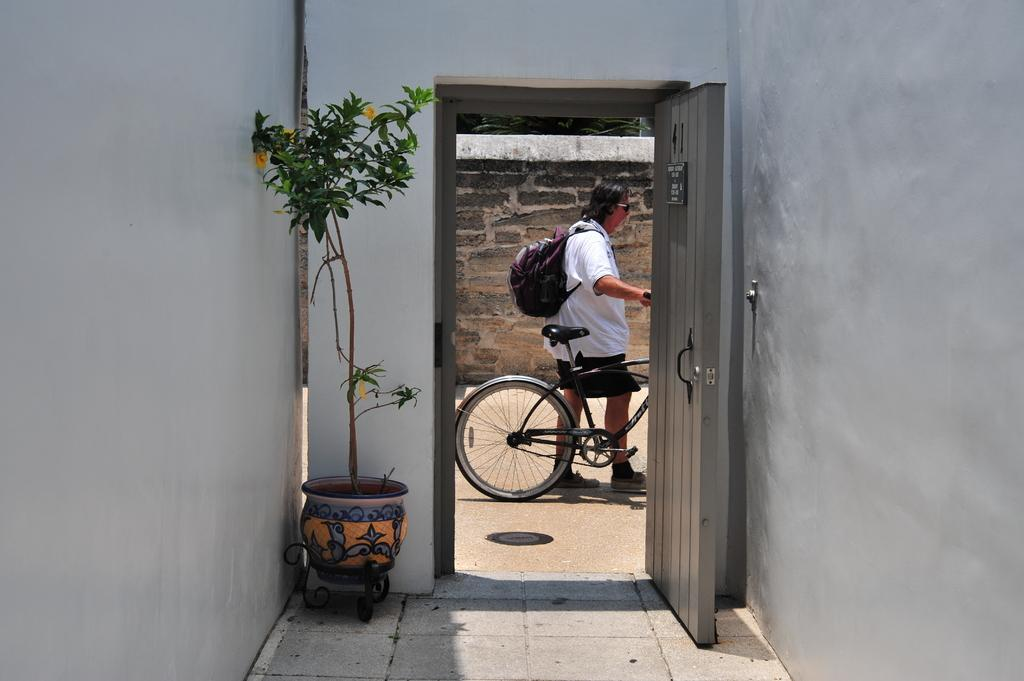door: (658, 104, 720, 593)
handle: (670, 338, 696, 410)
